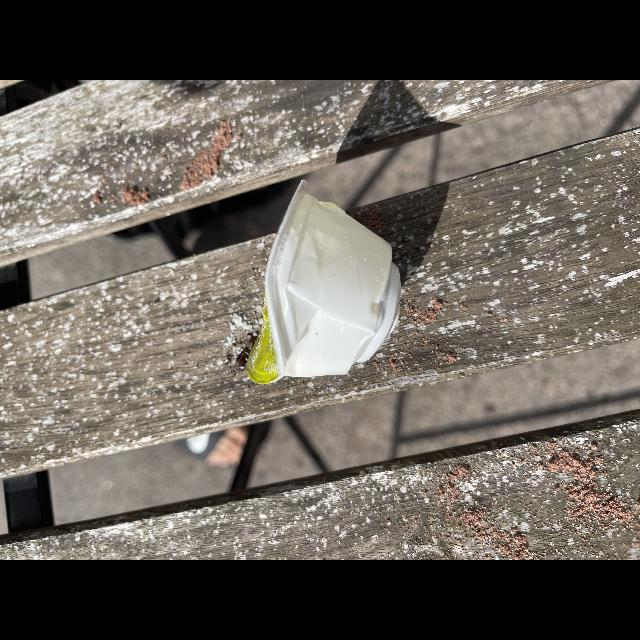damaged_capsule: (243, 170, 412, 402)
